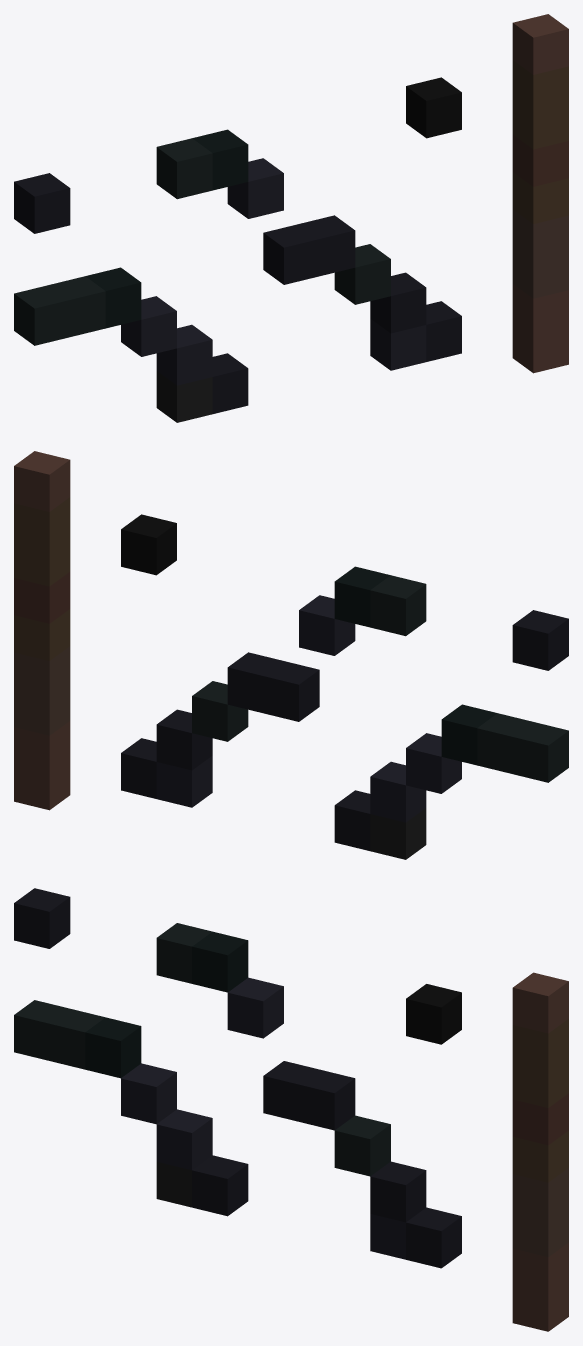
File: metalfence_one_side_no_topbar.glb
3 views of the same model, one above another, from view 1: azimuth 30°, elevation 25°; view 2: azimuth 150°, elevation 25°; view 3: azimuth 330°, elevation 25° (orthographic).
Parts seen in each view (by area): view 1: metalfence_one_side_no_topbar; view 2: metalfence_one_side_no_topbar; view 3: metalfence_one_side_no_topbar.
Part boxes in pixels (x1=…): metalfence_one_side_no_topbar: x1=14, y1=14, x2=568, y2=422; metalfence_one_side_no_topbar: x1=14, y1=451, x2=568, y2=859; metalfence_one_side_no_topbar: x1=14, y1=888, x2=568, y2=1331.
Bounding box in the file's own units: 3.75 × 2.25 × 0.25.
1 material, 1 textured.
